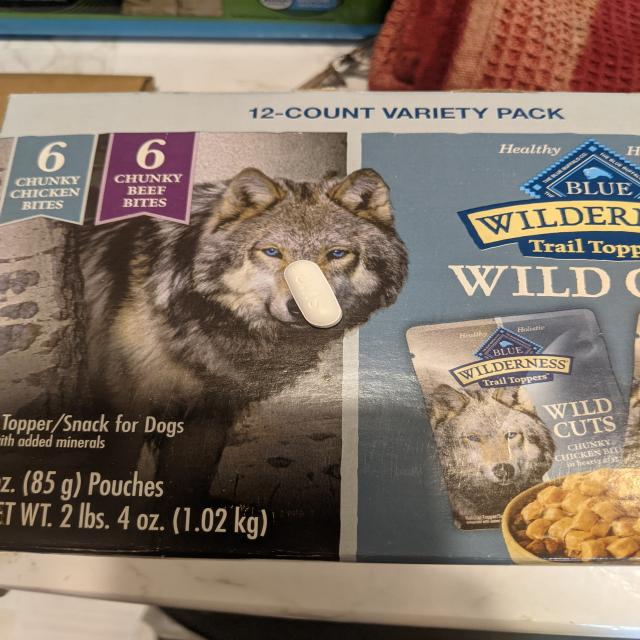non-organic waste: (283, 259, 344, 329)
